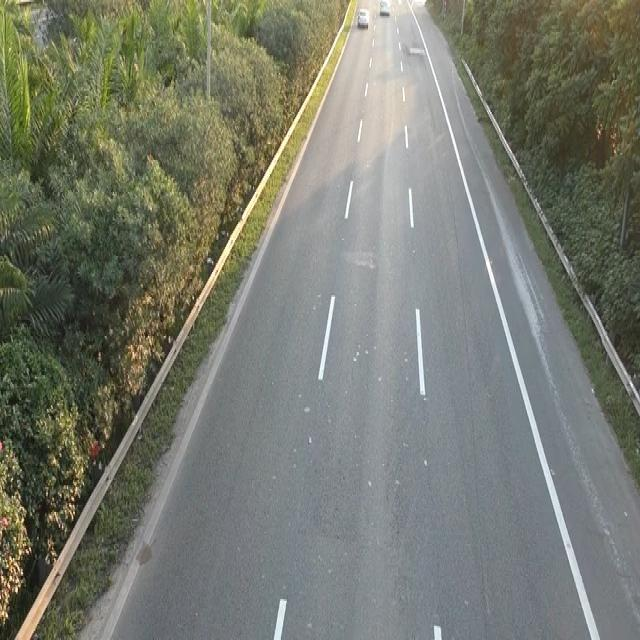bus: (356, 6, 369, 28), (378, 0, 391, 16)
